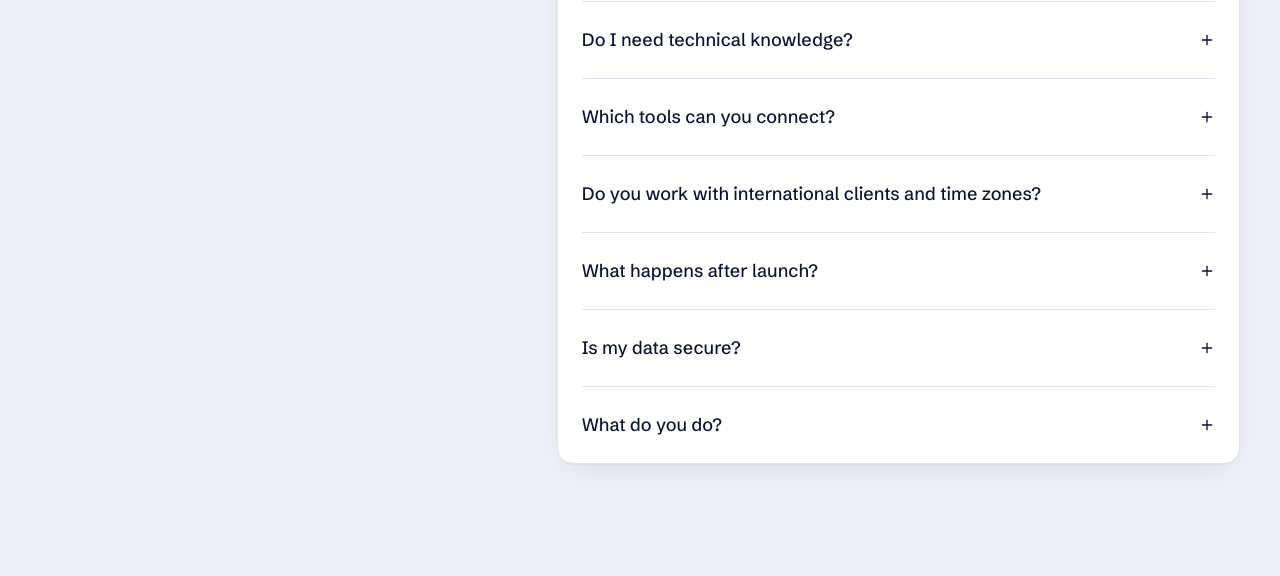
Test case: Faq › renders each question and reveals its answer when clicked
This screenshot has width=1280, height=576.
(page scrolled)
Expected: the text "We build AI agents." is not shown
Click the button "What do you do?".
click(652, 424)  # box [582,387,1215,463]
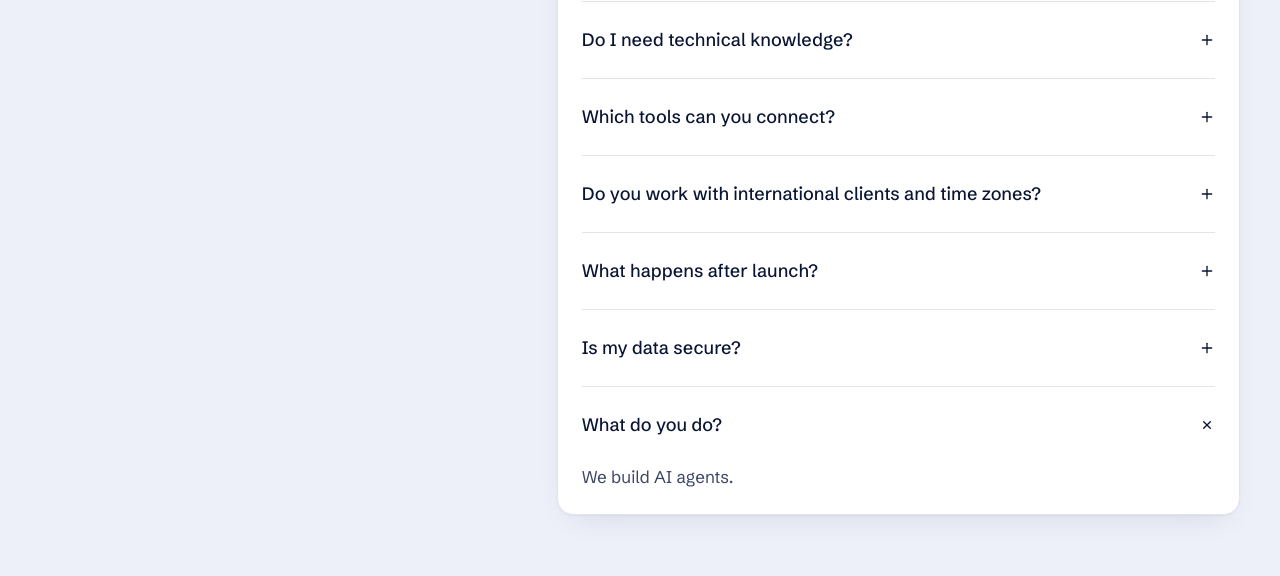
Expected: the text "We build AI agents." is shown, [582,466,734,487]
